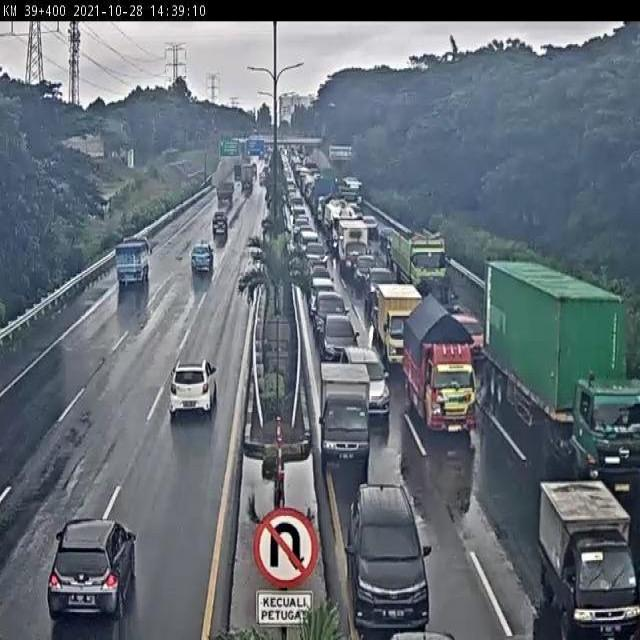big truck: (483, 258, 640, 506), (384, 224, 454, 308)
car: (341, 465, 447, 636), (45, 513, 154, 636), (163, 350, 223, 430), (342, 344, 398, 425), (451, 307, 489, 380), (316, 308, 357, 367), (314, 293, 352, 343), (186, 239, 219, 281), (209, 206, 235, 238)
small truck: (533, 470, 640, 640), (403, 295, 490, 437), (316, 348, 374, 475), (373, 283, 423, 368), (110, 233, 157, 288)
